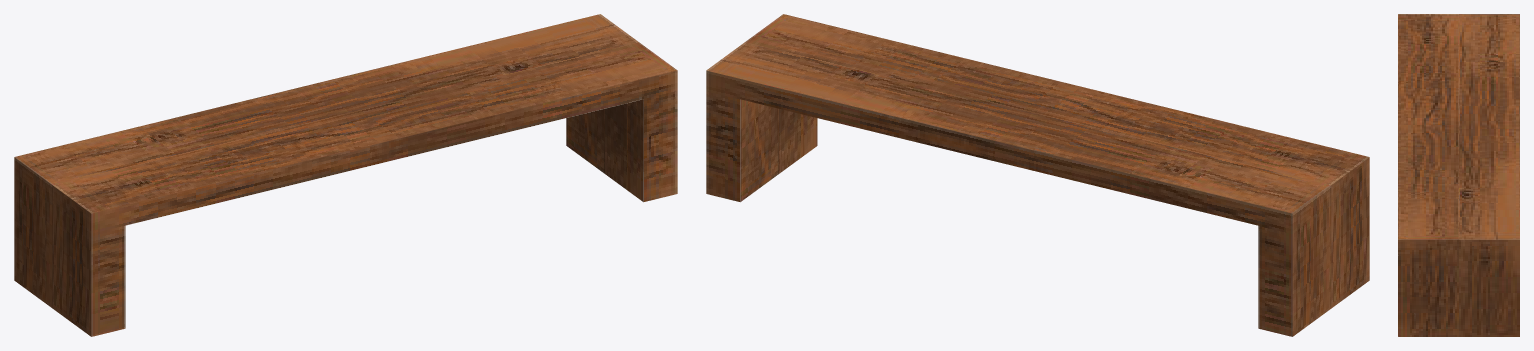
File: banco.glb
3 renders of one model, left to right at view 1: azimuth 30°, elevation 25°; view 2: azimuth 150°, elevation 25°; view 3: azimuth 270°, elevation 25°, orthographic. The views are drawn at different scales.
Visible parts, largest first — view 1: Cube; view 2: Cube; view 3: Cube.
Boxes of the visible parts, x1,y1,x2,y2 form: Cube: [14, 14, 677, 336]; Cube: [706, 14, 1369, 336]; Cube: [1398, 14, 1519, 336].
Bounding box in the file's own units: 17.53 × 3.52 × 4.
Materials: 1 (1 with a texture image).
